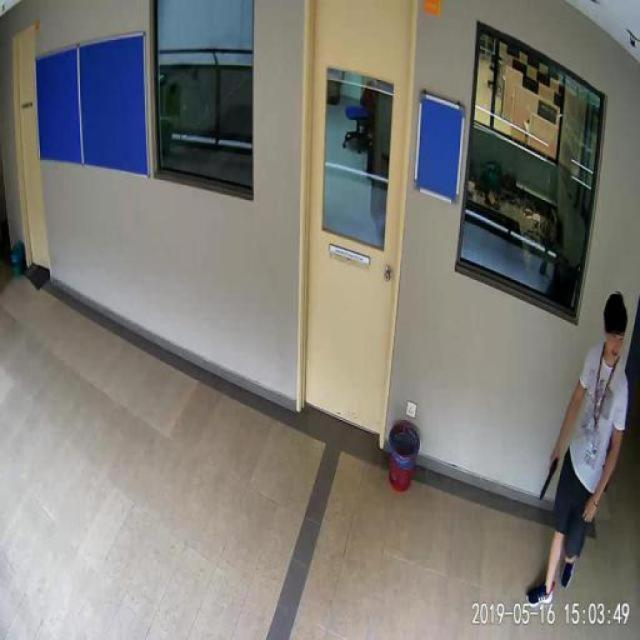pistol: (538, 447, 558, 498)
